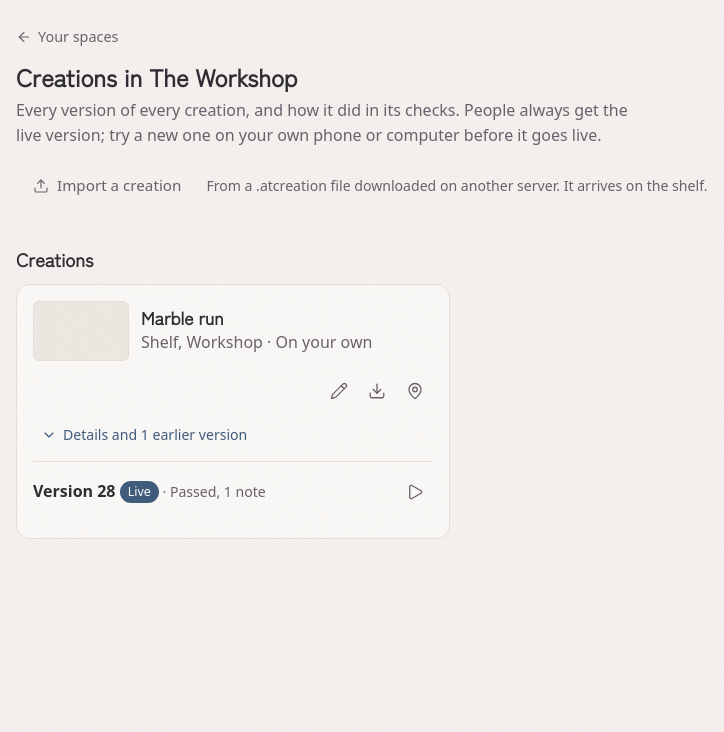
Test: a creation's versions, on the Creations page › asks first when going back past a change in how it saves
The width and height of the screenshot is (724, 732).
Click the button "Details and 1 earlier version" at (144, 435), box [33, 413, 255, 457]
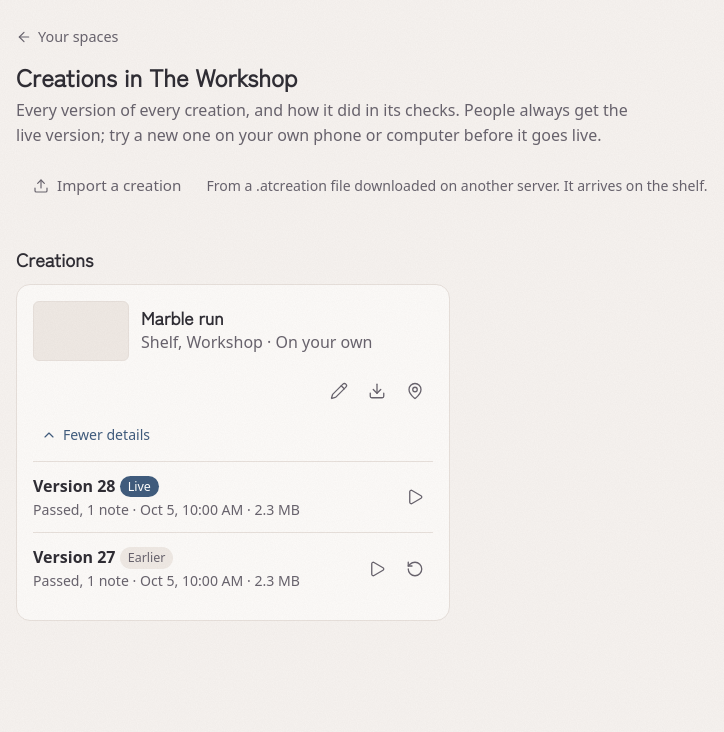
Click the button named "Go back to version 27" at (415, 569), box [397, 551, 433, 587]
(page scrolled)
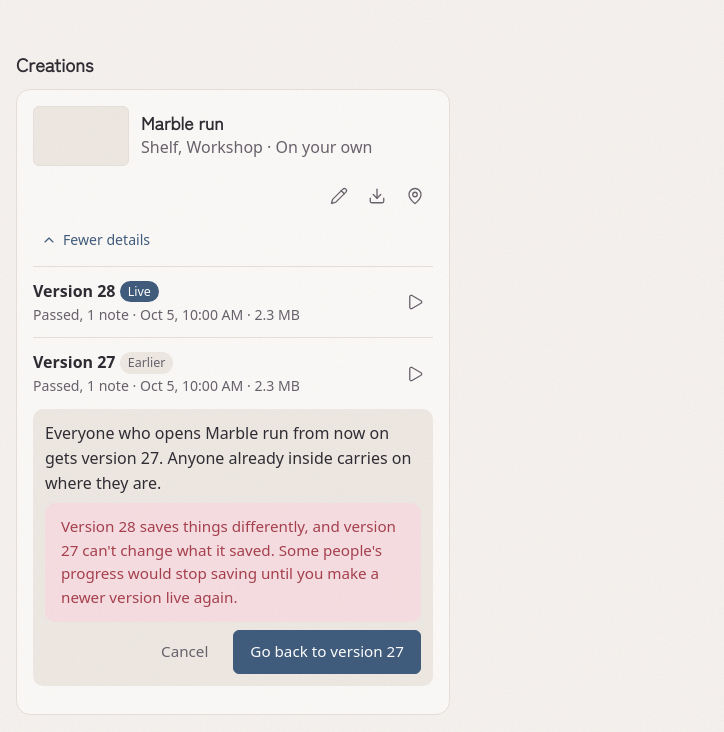
Expected: the element with class "studio-confirm" shows "saves things differently", [136, 516, 396, 536]
Click the button "Cancel" at (185, 652), box [144, 630, 225, 674]
(page scrolled)
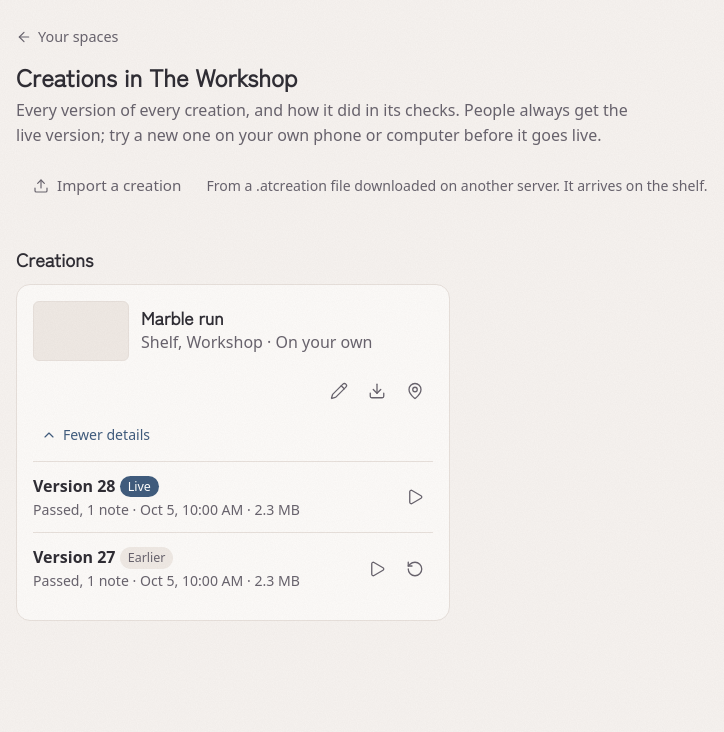
Expected: the element with class "studio-confirm" is gone
Expected: the button named "Go back to version 27" is shown, [397, 551, 433, 587]
